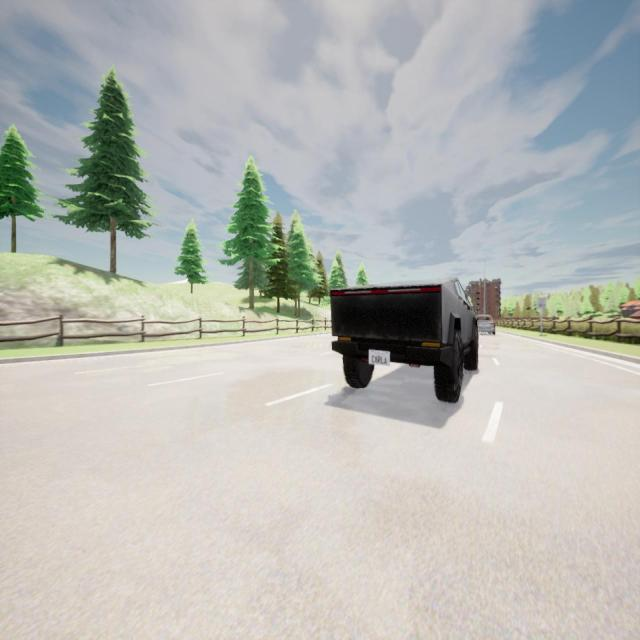Traffic_Signs: (536, 298, 546, 311)
Vehicle: (330, 279, 478, 402), (477, 314, 495, 336)
